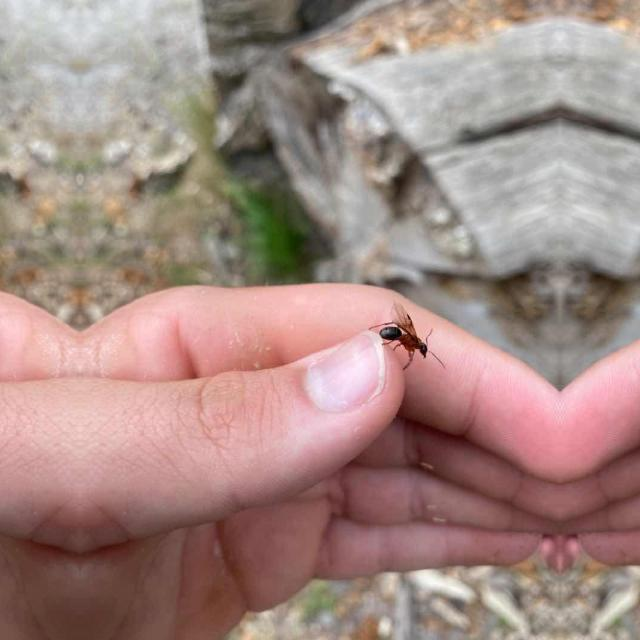Formica: (375, 306, 443, 368)
